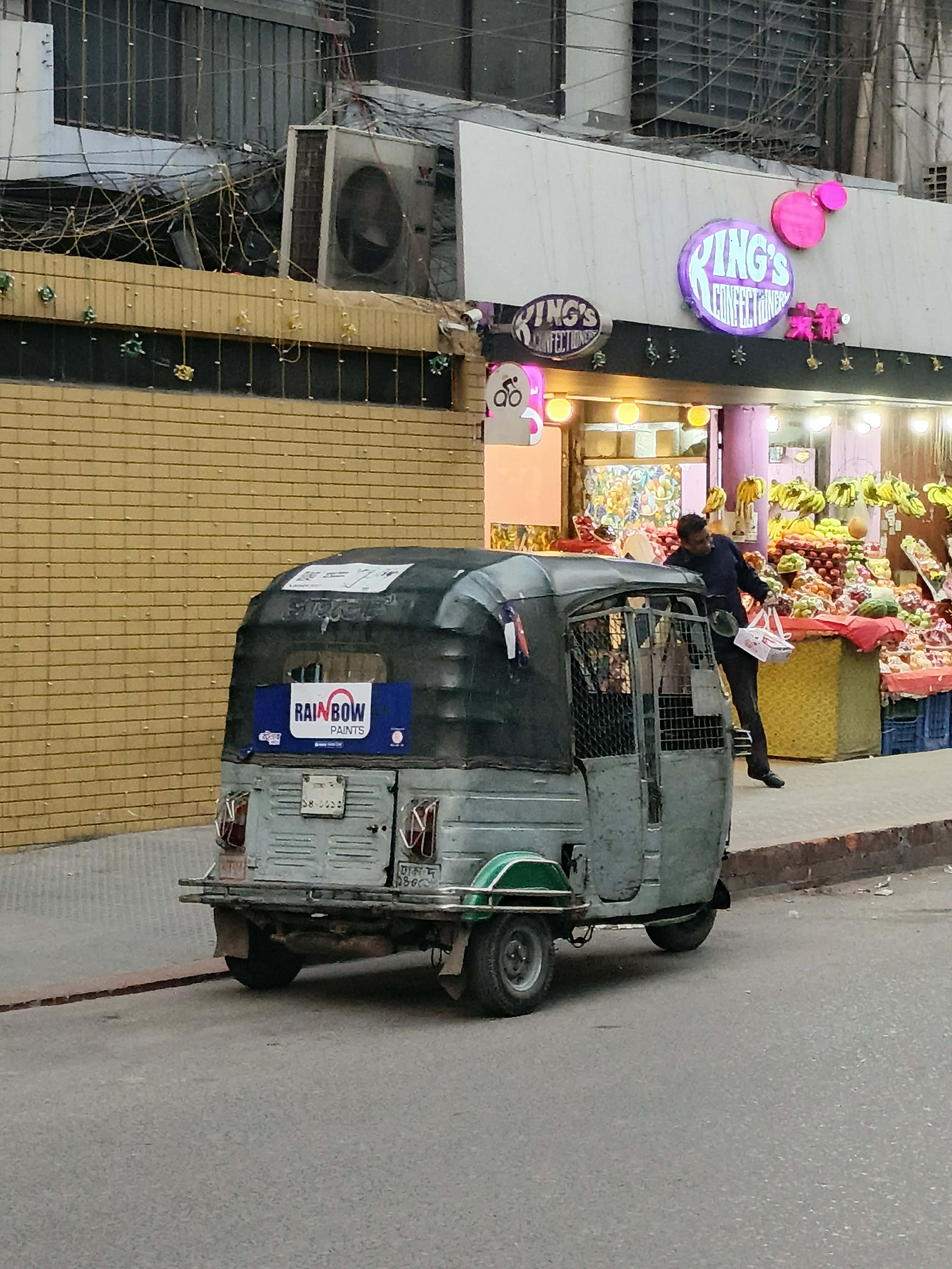cng: (187, 529, 770, 1014)
